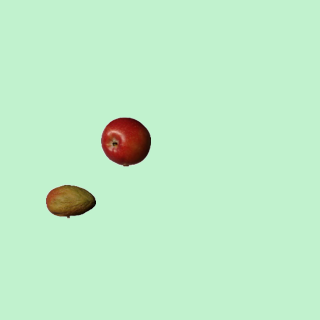Apple Braeburn: (100, 116, 150, 166)
Papaya: (45, 176, 95, 226)
